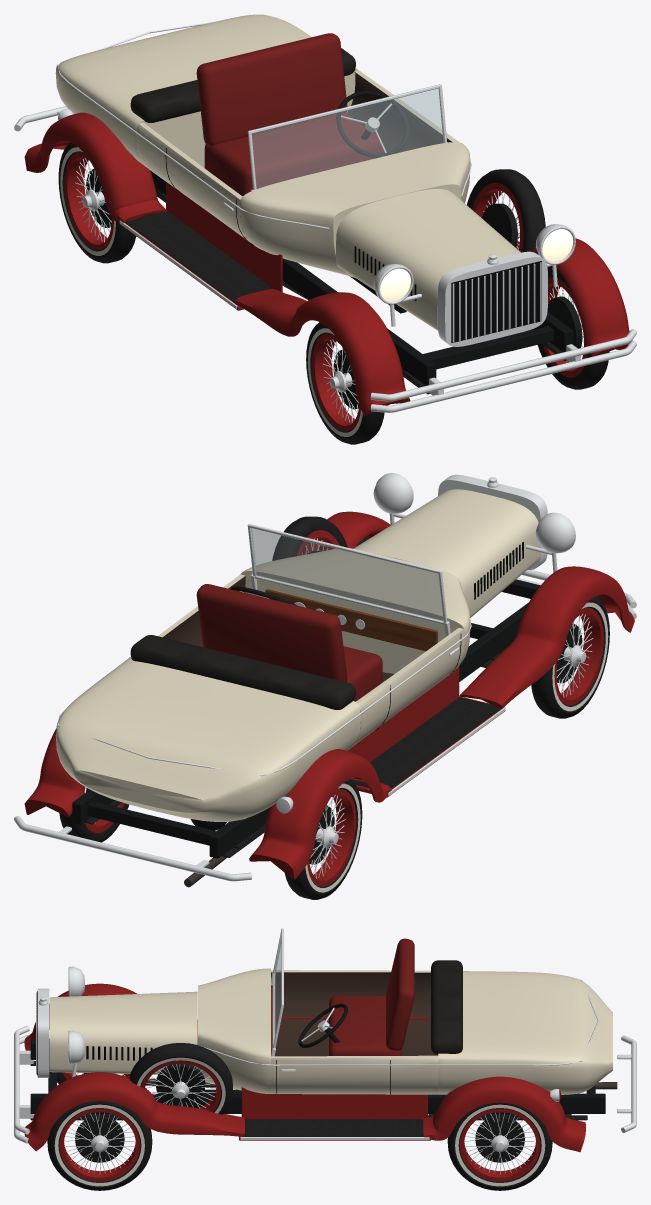
The model's file is vintage-roadster.glb.
3 views of the same model, one above another, from view 1: azimuth 30°, elevation 25°; view 2: azimuth 150°, elevation 25°; view 3: azimuth 270°, elevation 25° (orthographic). The views are drawn at different scales.
Visible parts, largest first — view 1: Vintage_Roadster, Wheel_FR, Wheel_RR, Wheel_FL; view 2: Vintage_Roadster, Wheel_FR, Wheel_RR, Wheel_RL; view 3: Vintage_Roadster, Wheel_FL, Wheel_RL.
Part boxes in pixels (x1,y1,x2,y2): Vintage_Roadster: (14,14,636,416); Wheel_FR: (306,322,384,444); Wheel_RR: (58,142,136,263); Wheel_FL: (537,266,609,389); Vintage_Roadster: (14,473,636,887); Wheel_FR: (531,596,609,718); Wheel_RR: (284,779,362,899); Wheel_RL: (59,787,128,842); Vintage_Roadster: (14,928,636,1152); Wheel_FL: (47,1101,152,1190); Wheel_RL: (447,1102,552,1190).
Size of the model in its own units: 1.73 by 1.37 by 4.28.
Materials: 22 (4 with a texture image).
